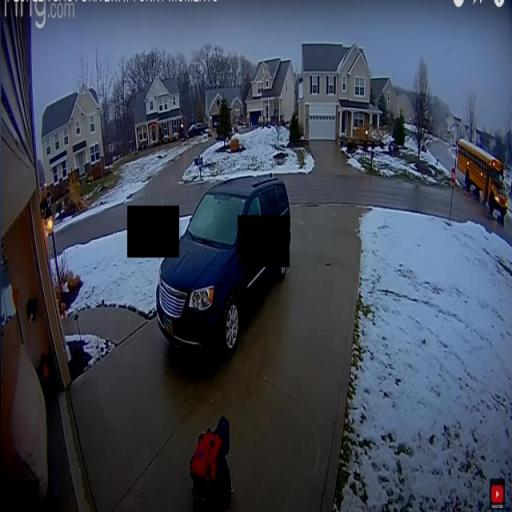Fall: (187, 411, 236, 512)
